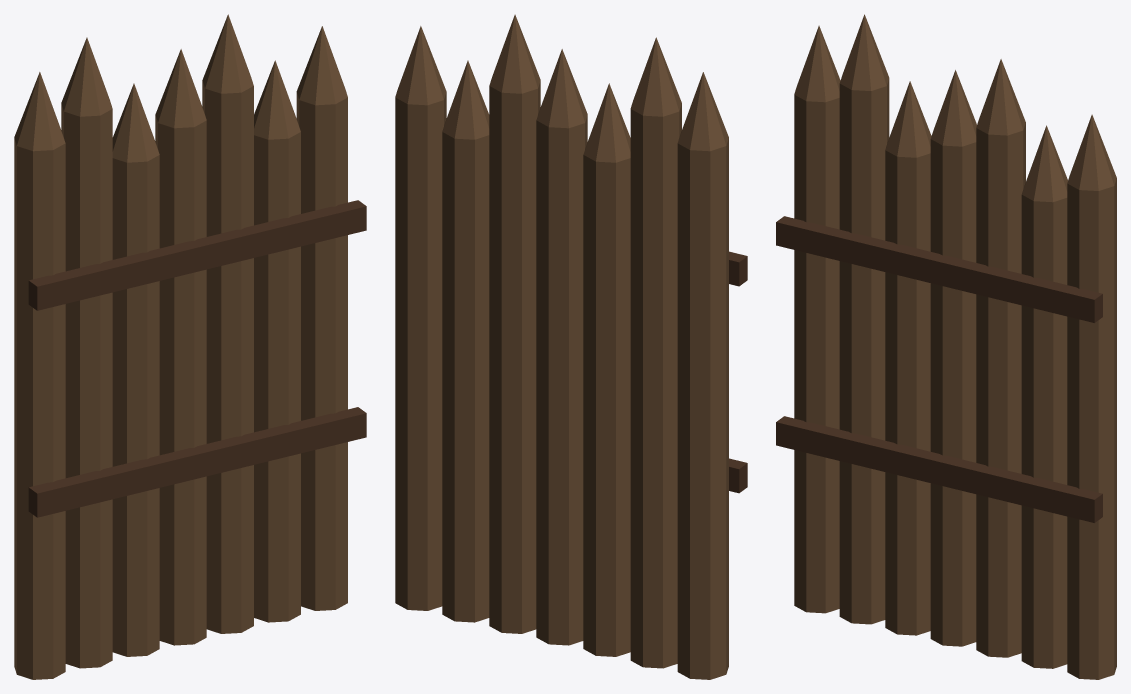
The model's file is palisade_lod0.glb.
3 views of the same model, side by side, from view 1: azimuth 30°, elevation 25°; view 2: azimuth 150°, elevation 25°; view 3: azimuth 330°, elevation 25° (orthographic). The views are drawn at different scales.
Parts seen in each view (by area): view 1: palisade; view 2: palisade; view 3: palisade.
Boxes of the visible parts, left/top/right/bottom form: palisade: left=14, top=14, right=366, bottom=679; palisade: left=395, top=14, right=747, bottom=679; palisade: left=776, top=14, right=1116, bottom=679.
Bounding box in the file's own units: 2 × 3.6 × 0.3599.
